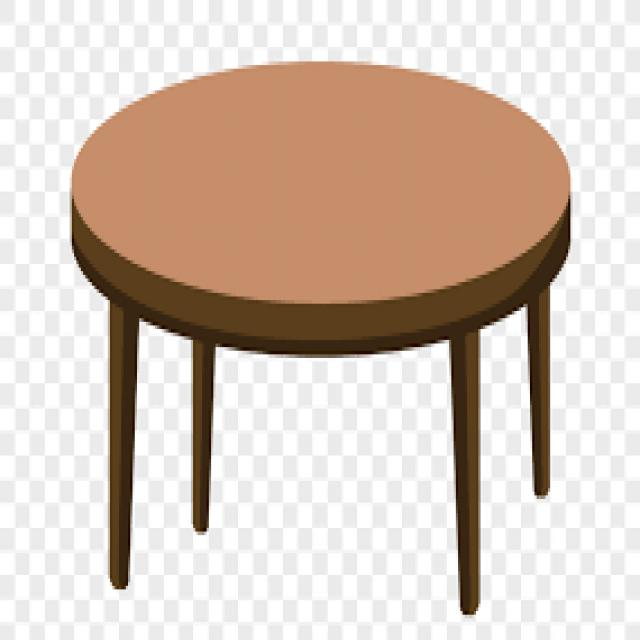Table: (50, 49, 602, 622)
